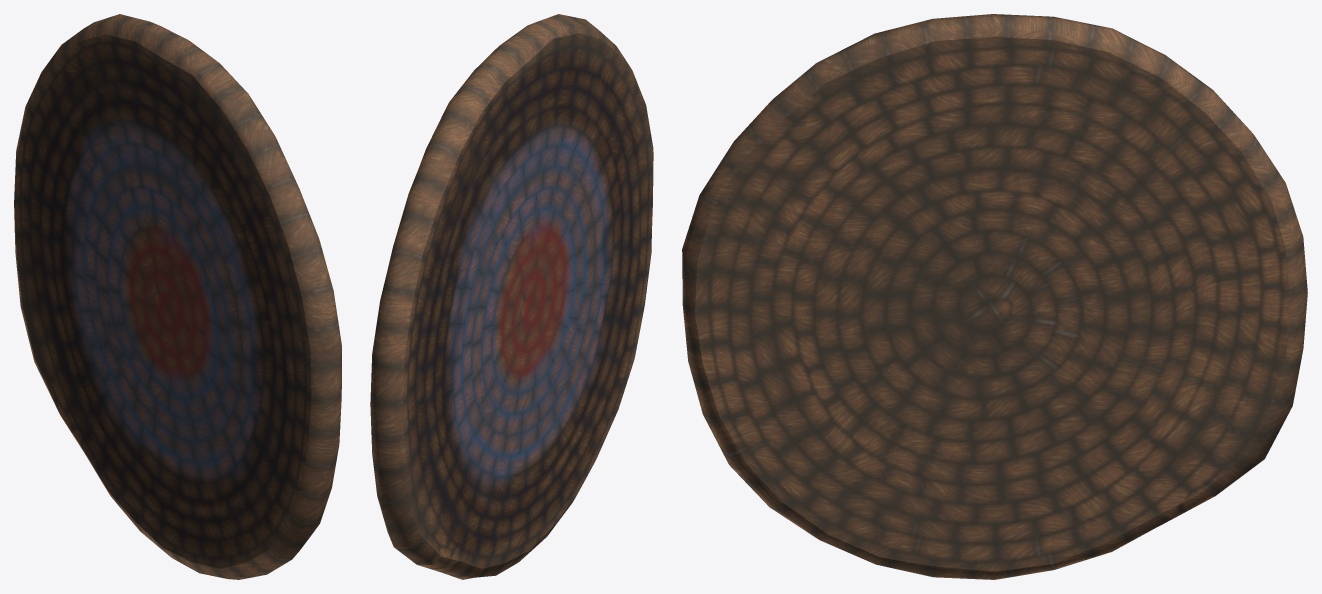
Rendered from hay_archery_target.glb.
3 renders of one model, left to right at view 1: azimuth 30°, elevation 25°; view 2: azimuth 150°, elevation 25°; view 3: azimuth 270°, elevation 25°, orthographic. The views are drawn at different scales.
Visible parts, largest first — view 1: targetTest2_low; view 2: targetTest2_low; view 3: targetTest2_low.
Part boxes in pixels (x1=…): targetTest2_low: x1=14, y1=14, x2=341, y2=579; targetTest2_low: x1=370, y1=14, x2=653, y2=579; targetTest2_low: x1=682, y1=14, x2=1307, y2=579.
Size of the model in its own units: 0.2169 by 1.99 by 2.
1 material, 1 textured.
